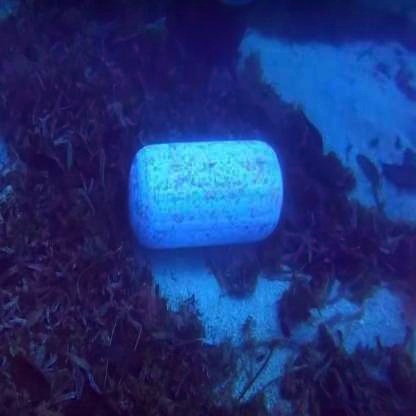can: (111, 117, 291, 252)
